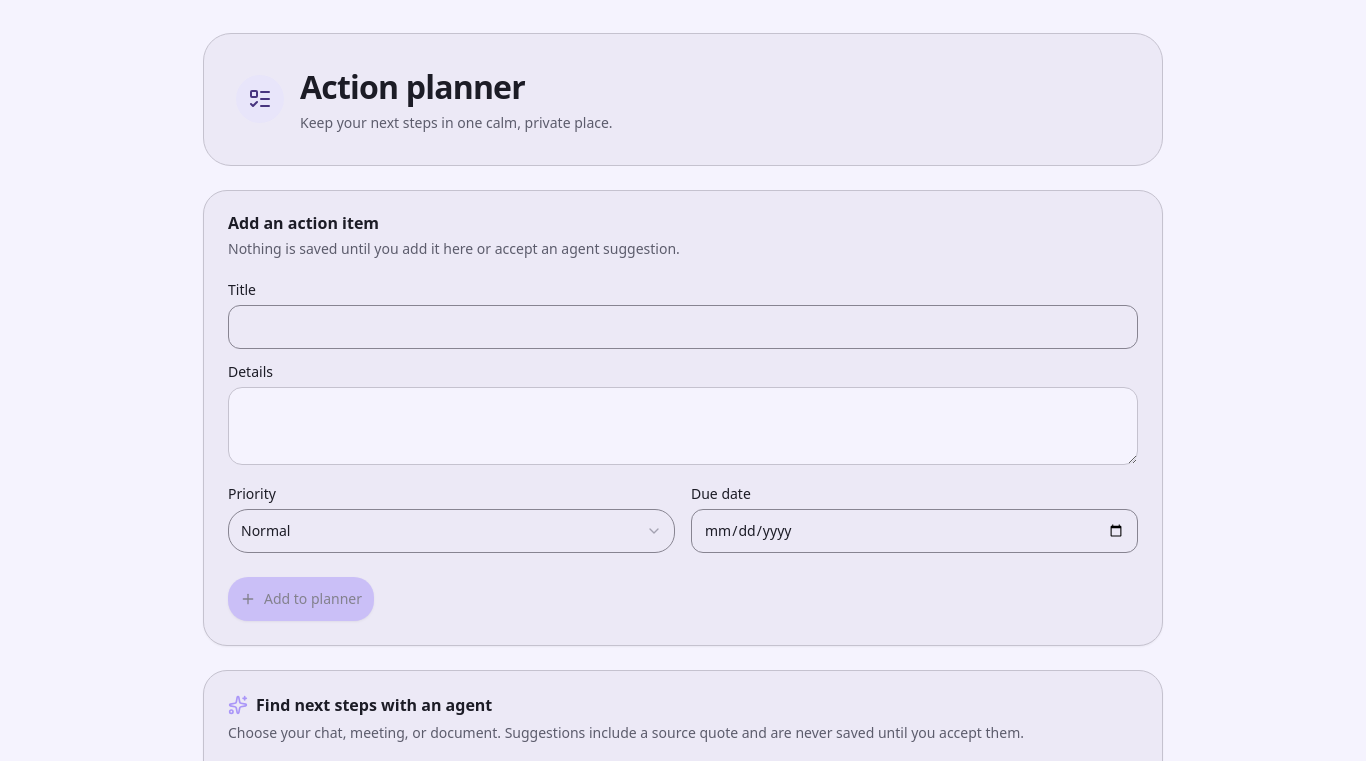
Test: ActionItemsPage › creates and lists an action item
Type "Send meeting notes" into the field labelled "Title".
click(683, 327); type("Send meeting notes")  # box [228,305,1138,349]
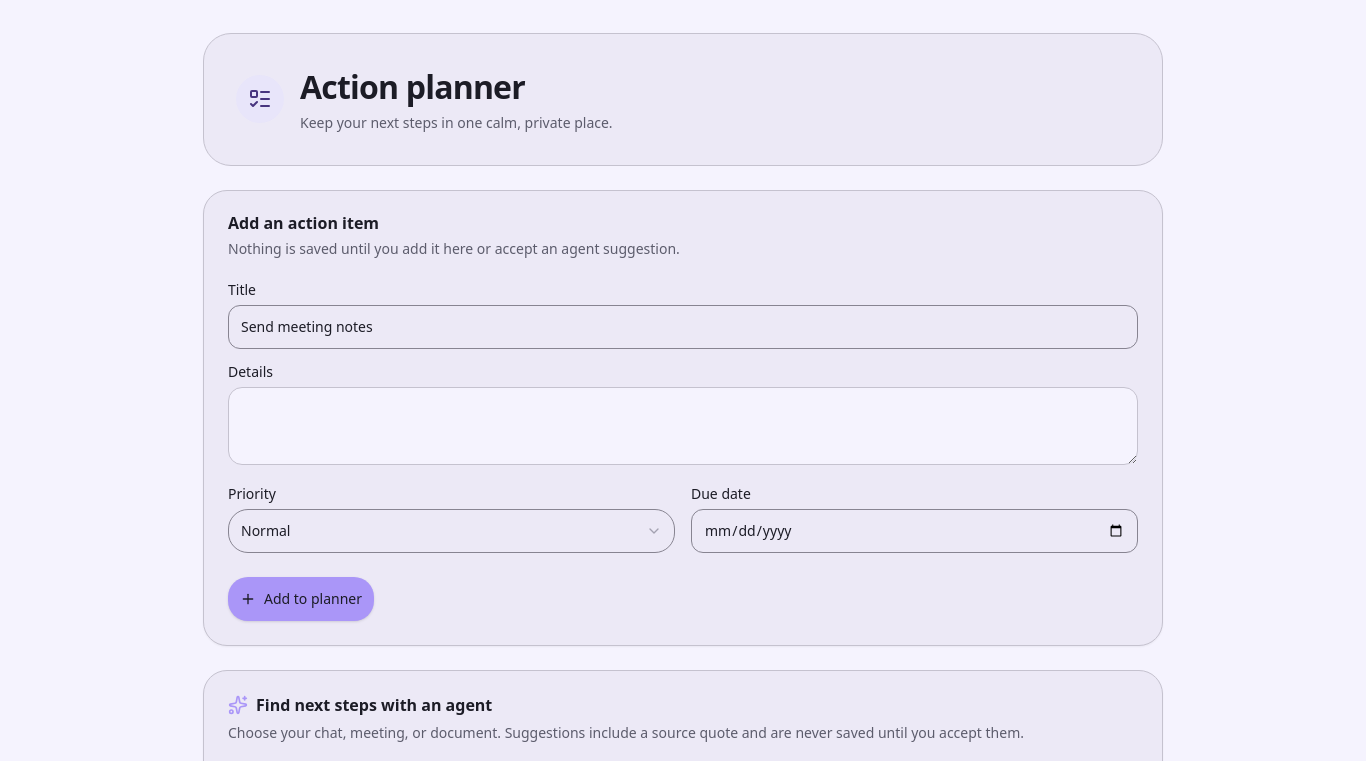
Type "Share with the team" into the text box labelled "Details".
click(683, 426); type("Share with the team")  # box [228,387,1138,465]
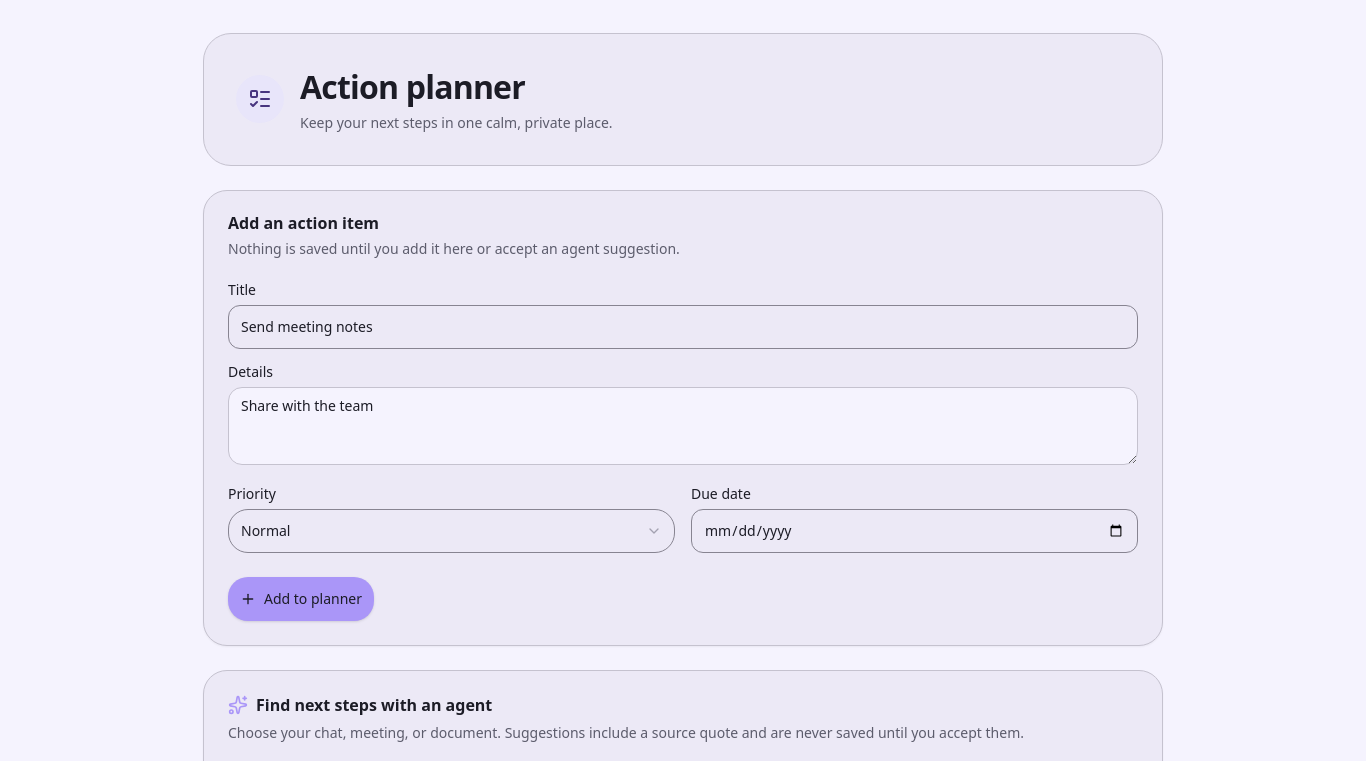
Click the button "Add to planner".
click(301, 599)  # box [228,577,374,621]
(page scrolled)
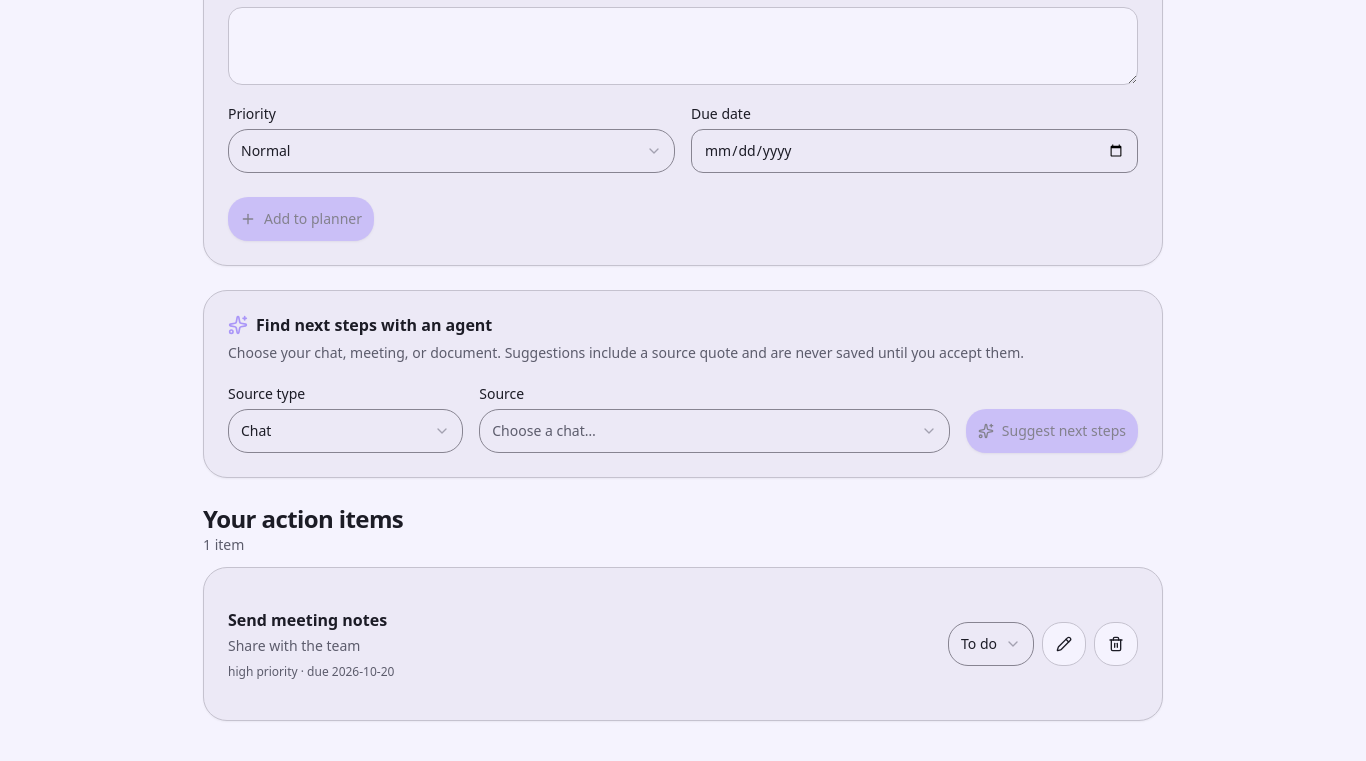
Now the text "Send meeting notes" is shown, box [228,609,387,631]
